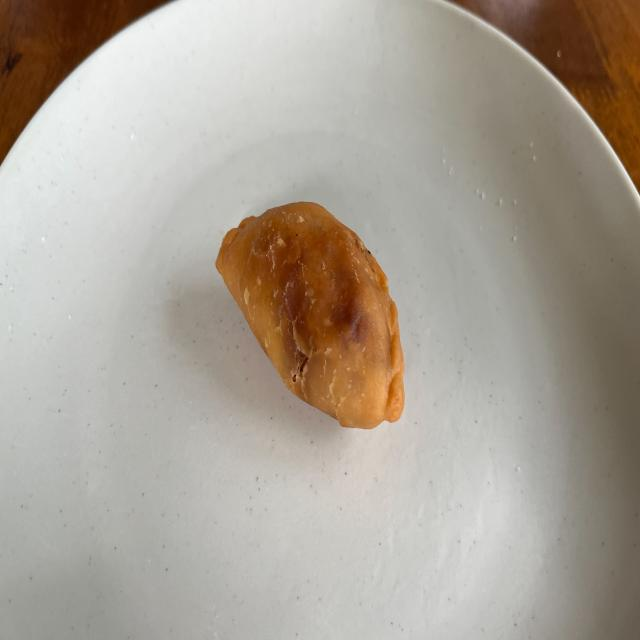karipap: (216, 202, 404, 429)
